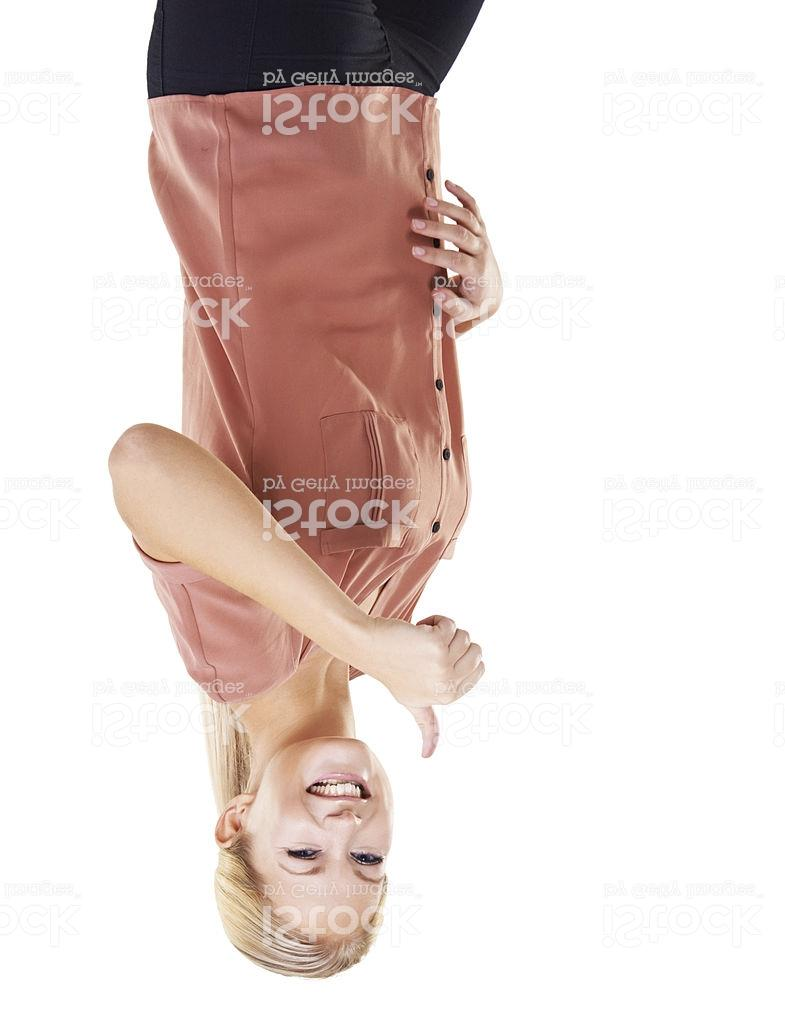thumbsdown: (397, 612, 487, 764)
